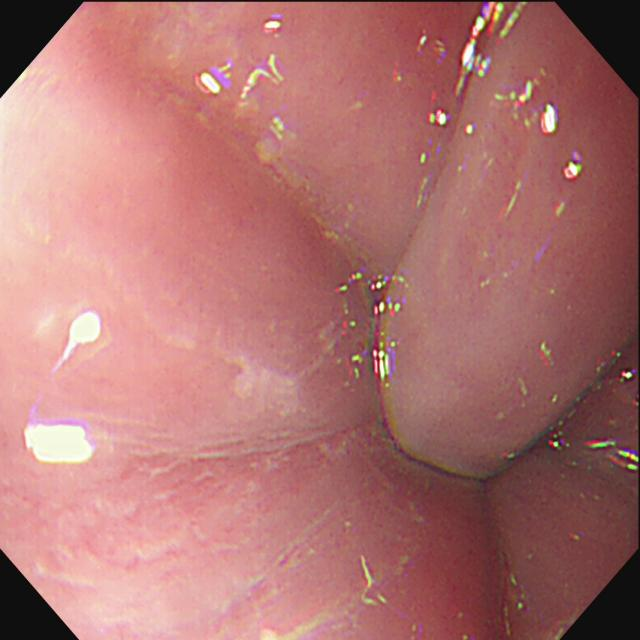J: (223, 353, 303, 419)
U: (456, 2, 528, 97), (23, 418, 96, 466), (54, 312, 103, 372), (241, 55, 284, 102), (585, 439, 640, 472), (196, 61, 236, 96), (373, 340, 404, 383), (493, 80, 535, 110), (369, 273, 411, 293), (374, 296, 408, 320), (541, 103, 561, 137), (564, 152, 584, 183), (335, 273, 363, 295), (264, 13, 284, 40), (345, 355, 365, 380), (549, 431, 571, 453), (430, 109, 449, 127), (620, 367, 636, 385), (465, 123, 475, 136)
